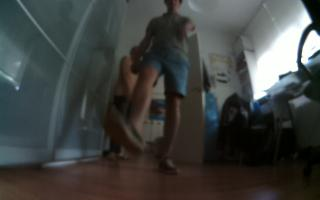person: (107, 1, 197, 181), (102, 38, 147, 167)
